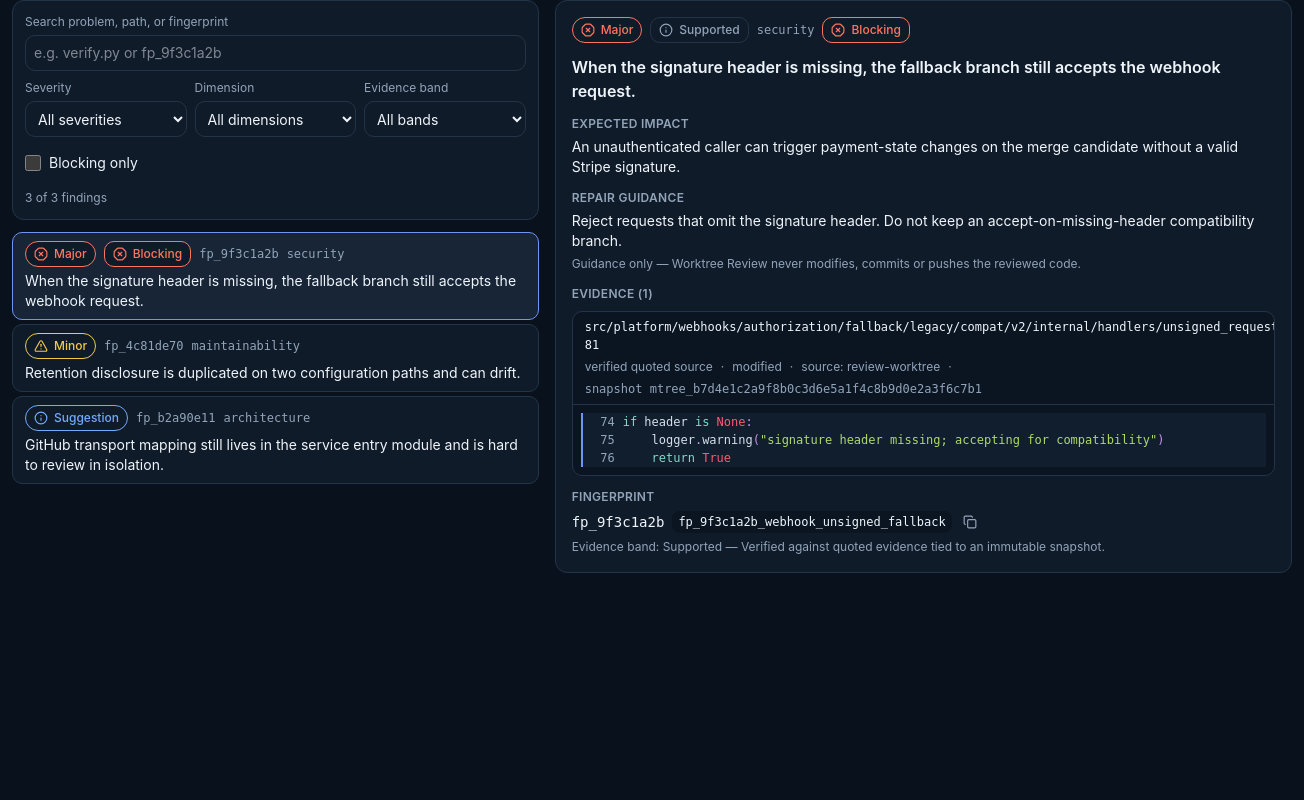
Test: FindingsTab master list › filters to blocking findings only
Click the checkbox labelled "Blocking only".
click(33, 163)  # box x1=25 y1=155 x2=41 y2=171
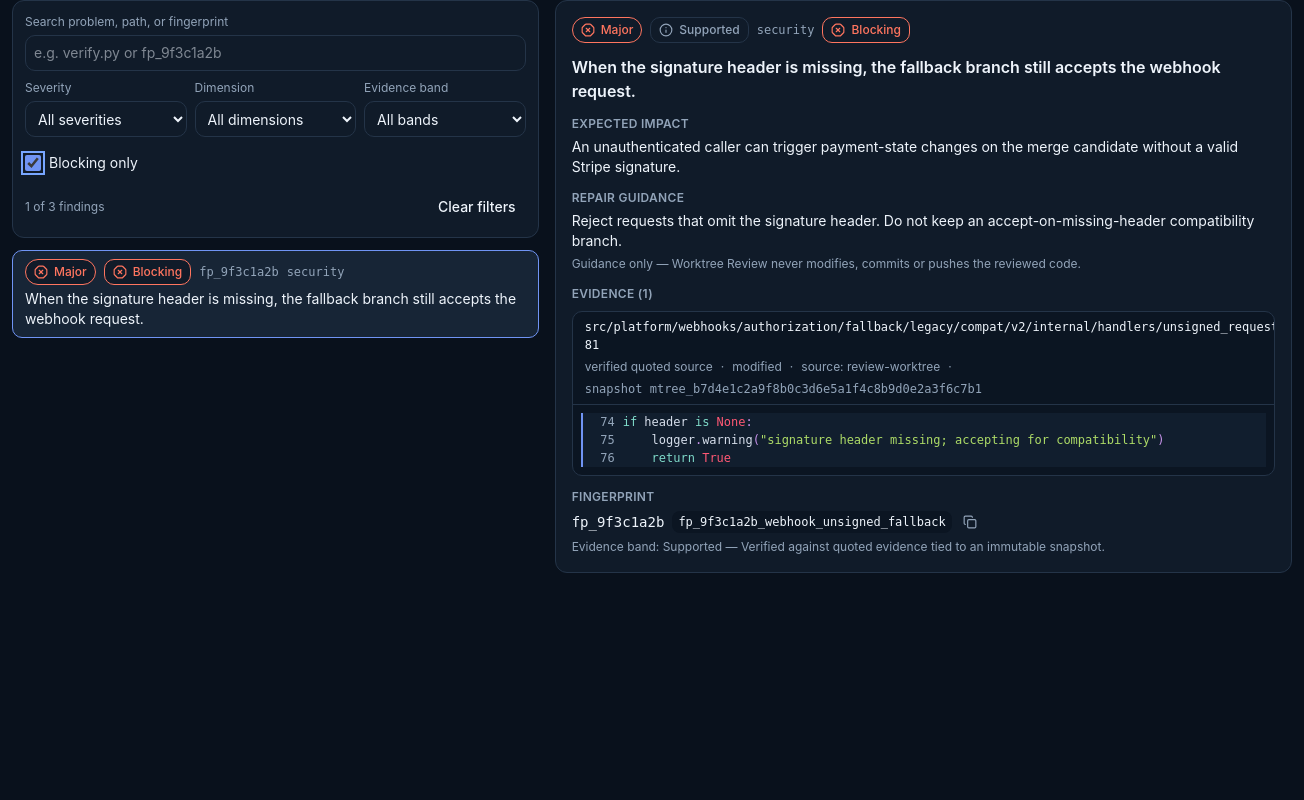
Result: the text "1 of 3 findings" is shown at x1=25 y1=198 x2=104 y2=216
